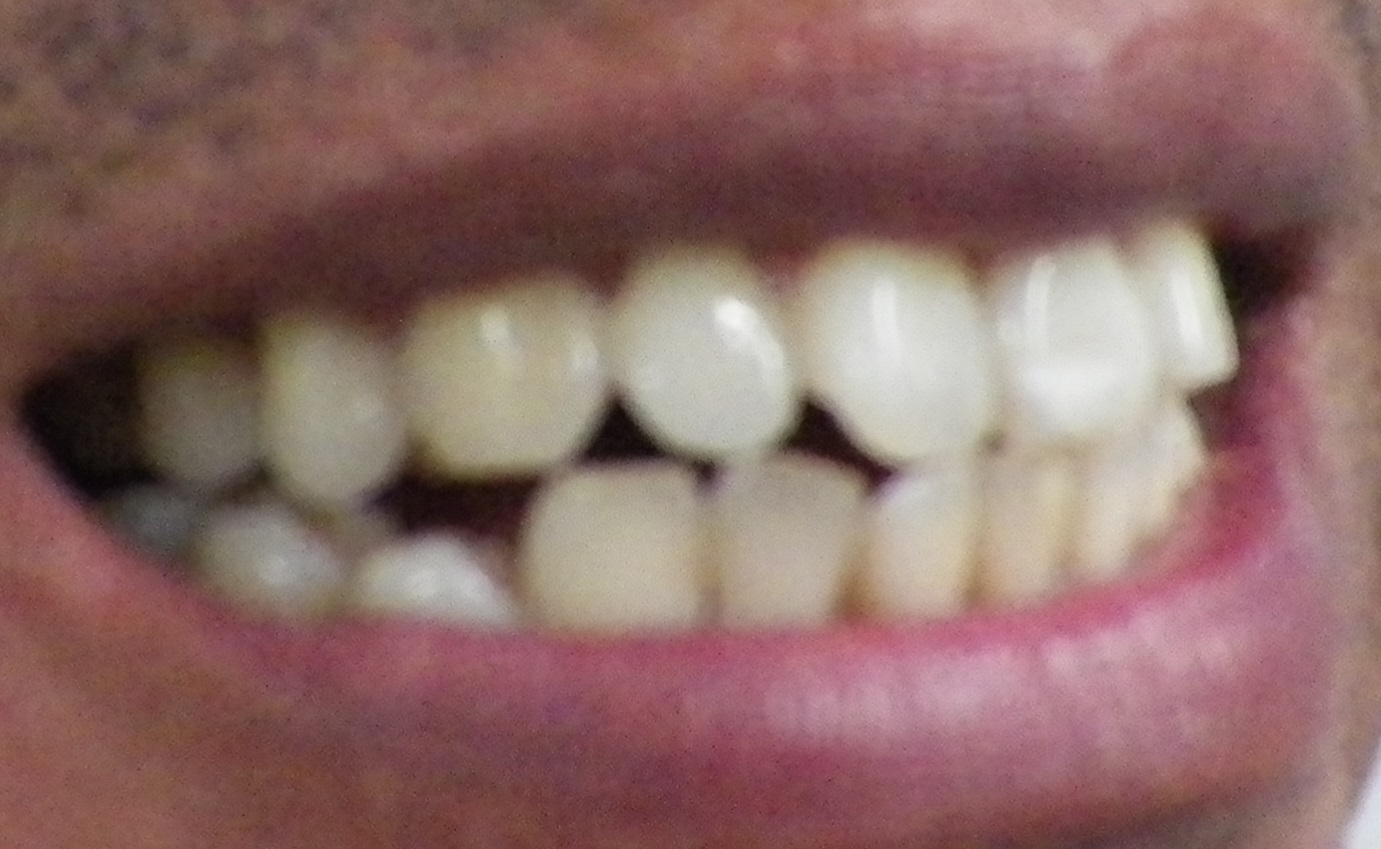boca: (115, 204, 1244, 599)
